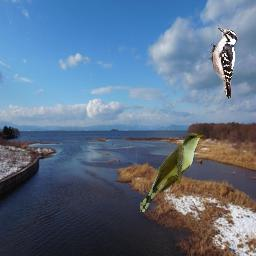Cuckoo: (140, 133, 204, 212)
Woodpecker: (209, 27, 238, 101)
